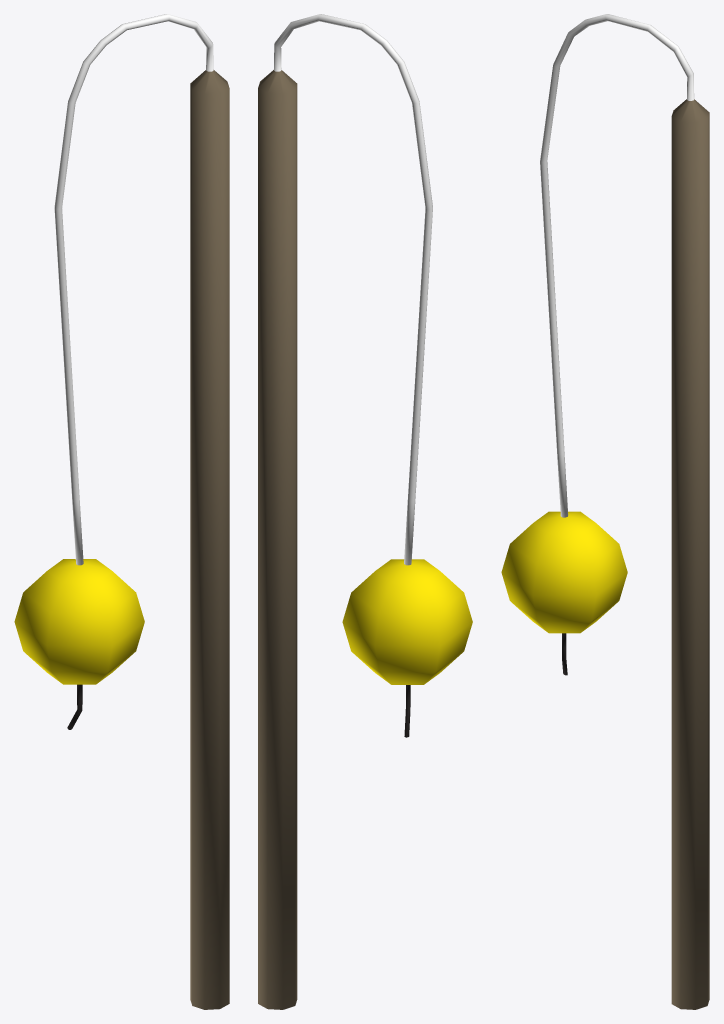
The model's file is CatToy.fbx.
The picture shows the model from 3 angles, left to right: view 1: azimuth 30°, elevation 25°; view 2: azimuth 150°, elevation 25°; view 3: azimuth 330°, elevation 25°; orthographic projection. The views are drawn at different scales.
Parts seen in each view (by area): view 1: Cylinder; view 2: Cylinder; view 3: Cylinder.
Boxes of the visible parts, x1,y1,x2,y2 form: Cylinder: (14, 14, 229, 1009); Cylinder: (258, 14, 472, 1009); Cylinder: (501, 14, 709, 1009).
Size of the model in its own units: 6.18 by 30 by 3.55.
Materials: 4 (4 with a texture image).
